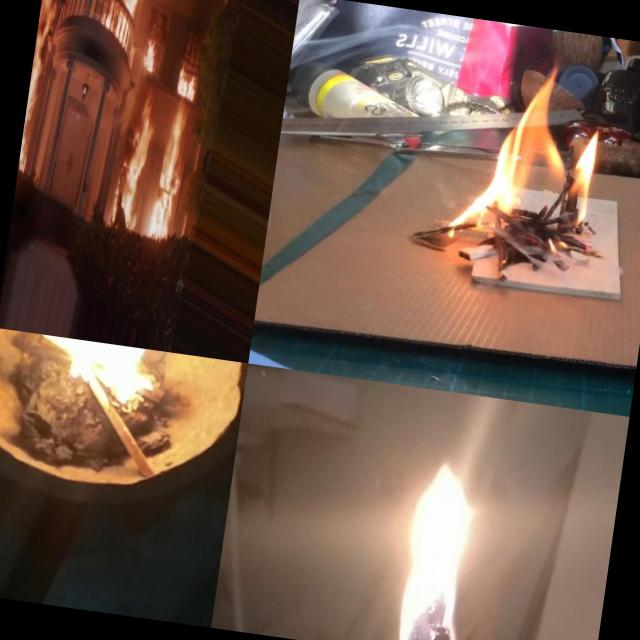fire: (447, 65, 610, 283), (369, 443, 493, 640), (35, 335, 171, 417), (19, 0, 65, 164), (111, 93, 159, 233), (147, 102, 195, 240), (96, 0, 148, 57), (170, 54, 205, 106), (140, 25, 160, 81)
